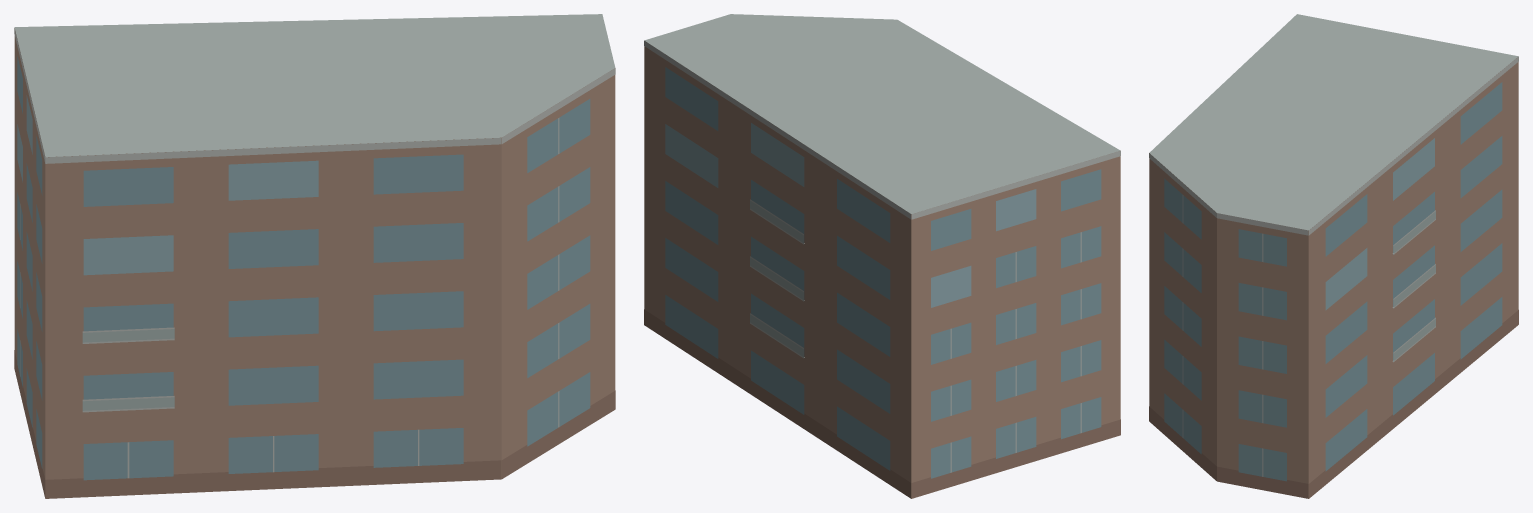
Rendered from survey-upis-32523947.glb.
The picture shows the model from 3 angles, left to right: view 1: azimuth 30°, elevation 25°; view 2: azimuth 150°, elevation 25°; view 3: azimuth 270°, elevation 25°; orthographic projection. The views are drawn at different scales.
Visible parts, largest first — view 1: survey-upis-32523947.tmp; view 2: survey-upis-32523947.tmp; view 3: survey-upis-32523947.tmp.
Part boxes in pixels (bbox=[...]): survey-upis-32523947.tmp: bbox=[14, 14, 615, 498]; survey-upis-32523947.tmp: bbox=[644, 14, 1120, 498]; survey-upis-32523947.tmp: bbox=[1149, 14, 1518, 498].
Size of the model in its own units: 21.62 by 12.5 by 15.6.
